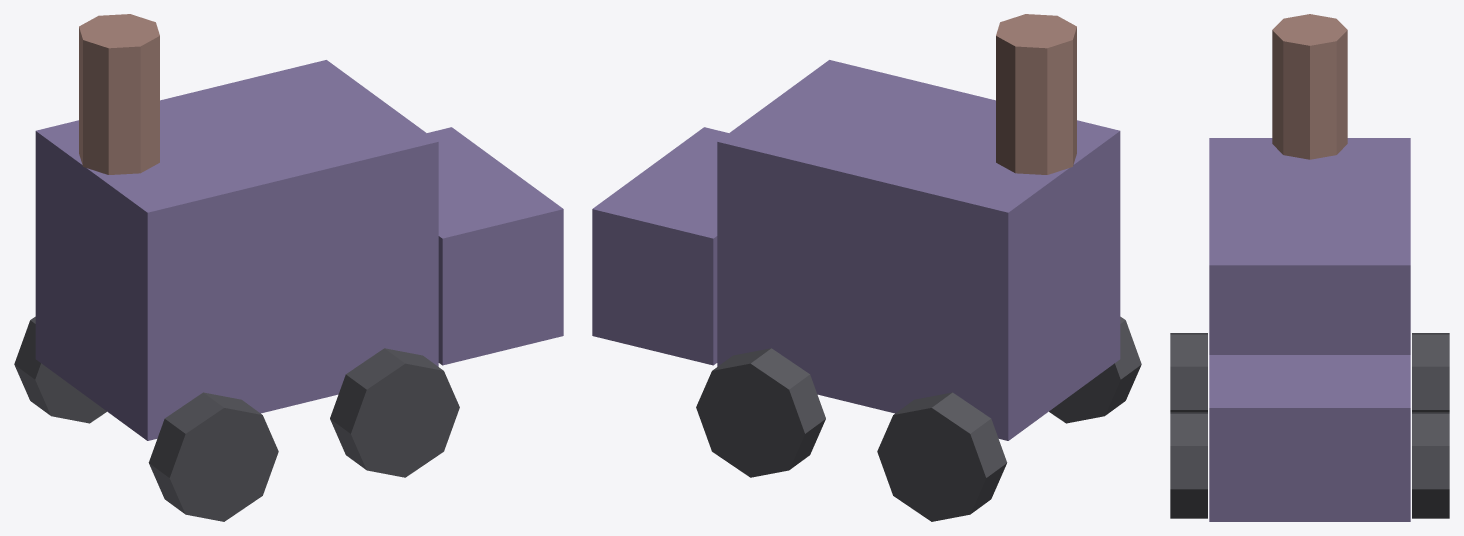
3 views of the same model, side by side, from view 1: azimuth 30°, elevation 25°; view 2: azimuth 150°, elevation 25°; view 3: azimuth 270°, elevation 25° (orthographic). The views are drawn at different scales.
Visible parts, largest first — view 1: part0, part1, part2, part6, part5, part3; view 2: part0, part1, part2, part4, part3, part5; view 3: part0, part1, part2, part4, part6, part3, part5.
Boxes of the visible parts, x1,y1,x2,y2 form: part0: [35, 60, 438, 440]; part1: [427, 127, 563, 365]; part2: [79, 14, 159, 174]; part6: [330, 348, 459, 477]; part5: [148, 392, 278, 521]; part3: [14, 316, 106, 423]; part0: [717, 60, 1120, 440]; part1: [592, 127, 728, 365]; part2: [996, 14, 1076, 174]; part4: [696, 348, 825, 477]; part3: [877, 392, 1007, 521]; part5: [1049, 316, 1141, 423]; part0: [1209, 138, 1410, 354]; part1: [1209, 355, 1410, 521]; part2: [1272, 14, 1347, 159]; part4: [1412, 412, 1449, 518]; part6: [1170, 412, 1207, 518]; part3: [1412, 333, 1449, 412]; part5: [1170, 333, 1207, 412].
Bounding box in the file's own units: 3.5 × 3.47 × 2.22.
